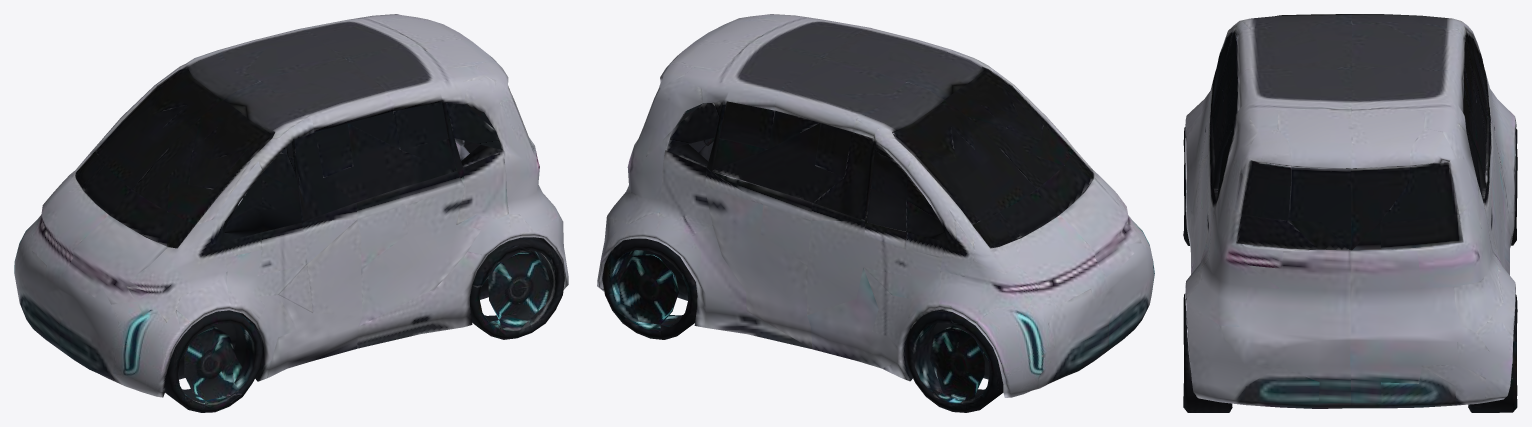
File: traffic_car.glb
The picture shows the model from 3 angles, left to right: view 1: azimuth 30°, elevation 25°; view 2: azimuth 150°, elevation 25°; view 3: azimuth 270°, elevation 25°; orthographic projection. The views are drawn at different scales.
Bounding box in the file's own units: 1 × 0.5314 × 0.5649.
1 material, 1 textured.
